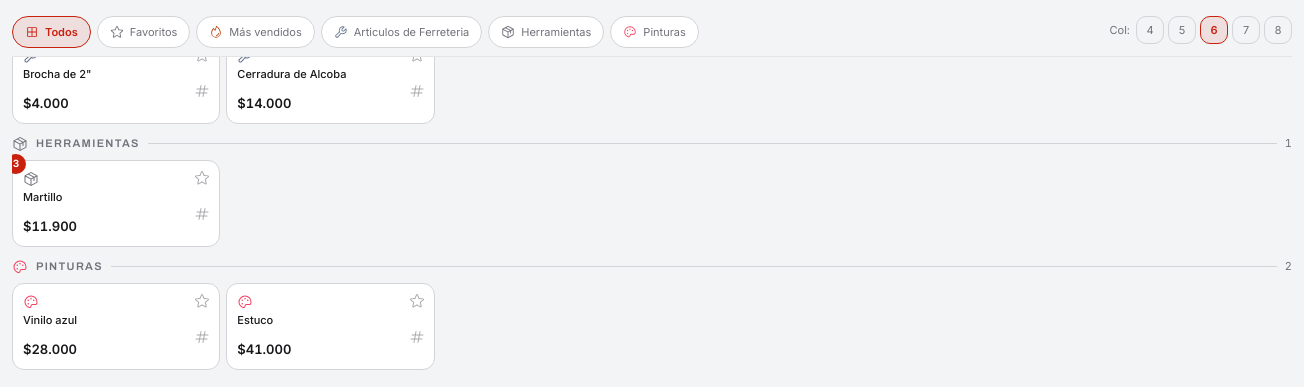
Scenario: GrillaCatalogo › elegir una categoría con reglas muestra la fila de SUBCATEGORÍAS y filtran (réplica del viejo)
This screenshot has width=1304, height=387.
Step 1. Click the button "Articulos de Ferreteria" → [402, 32], box [321, 16, 482, 48]
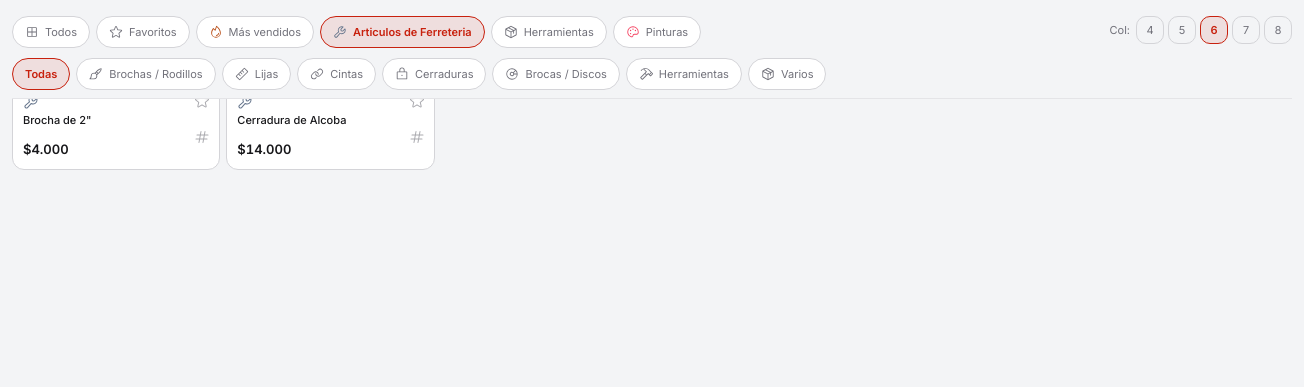
Result: the element named "Subcategorías de Articulos de Ferreteria" is shown at [12, 58, 826, 90]
Result: the button "Brochas / Rodillos" is shown at [76, 58, 216, 90]
Step 2. Click the button "Cerraduras" → [434, 74], box [382, 58, 486, 90]
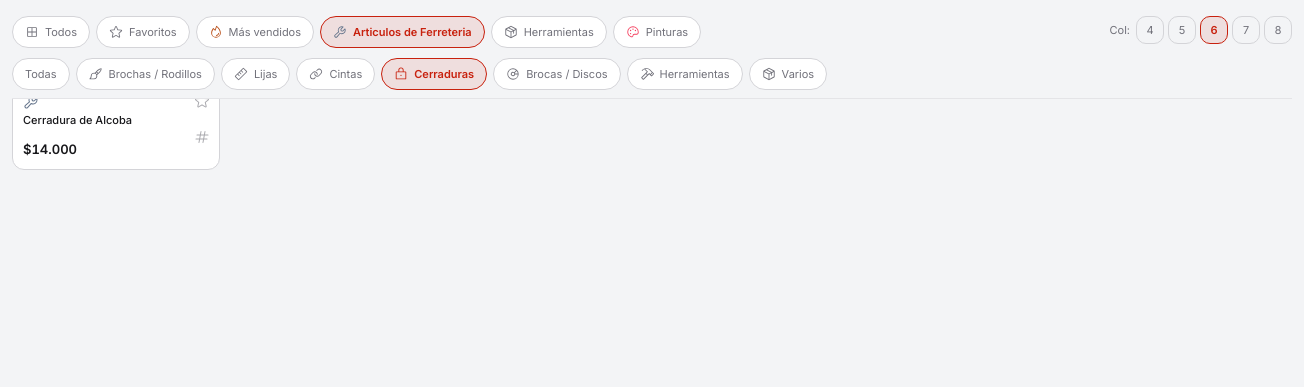
Expected: the button with aria-label "Agregar Cerradura de Alcoba" is shown, [12, 83, 220, 170]
Note: "Todas" vuelve a la categoría completa.
Step 3. Click the button "Todas" → [41, 74], box [12, 58, 70, 90]
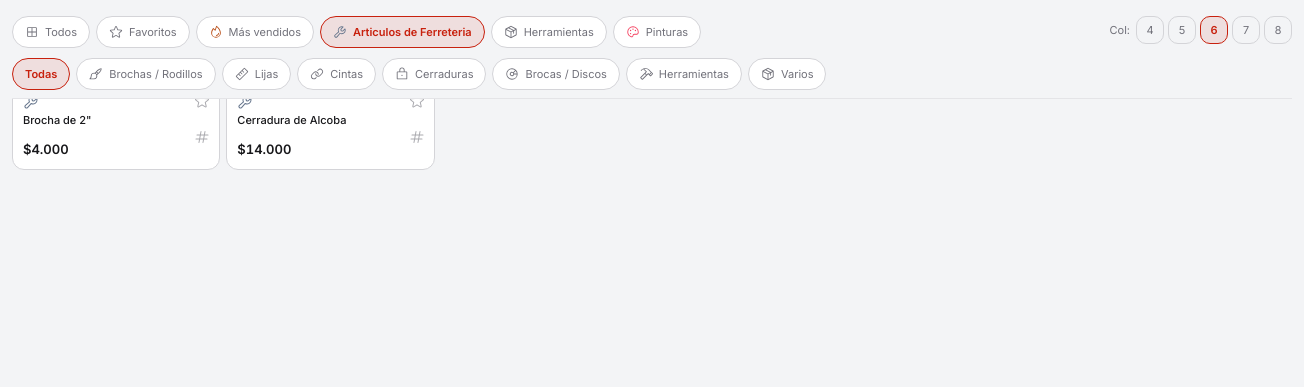
Result: the button named "Agregar Brocha de 2\"" is shown at [12, 83, 220, 170]
